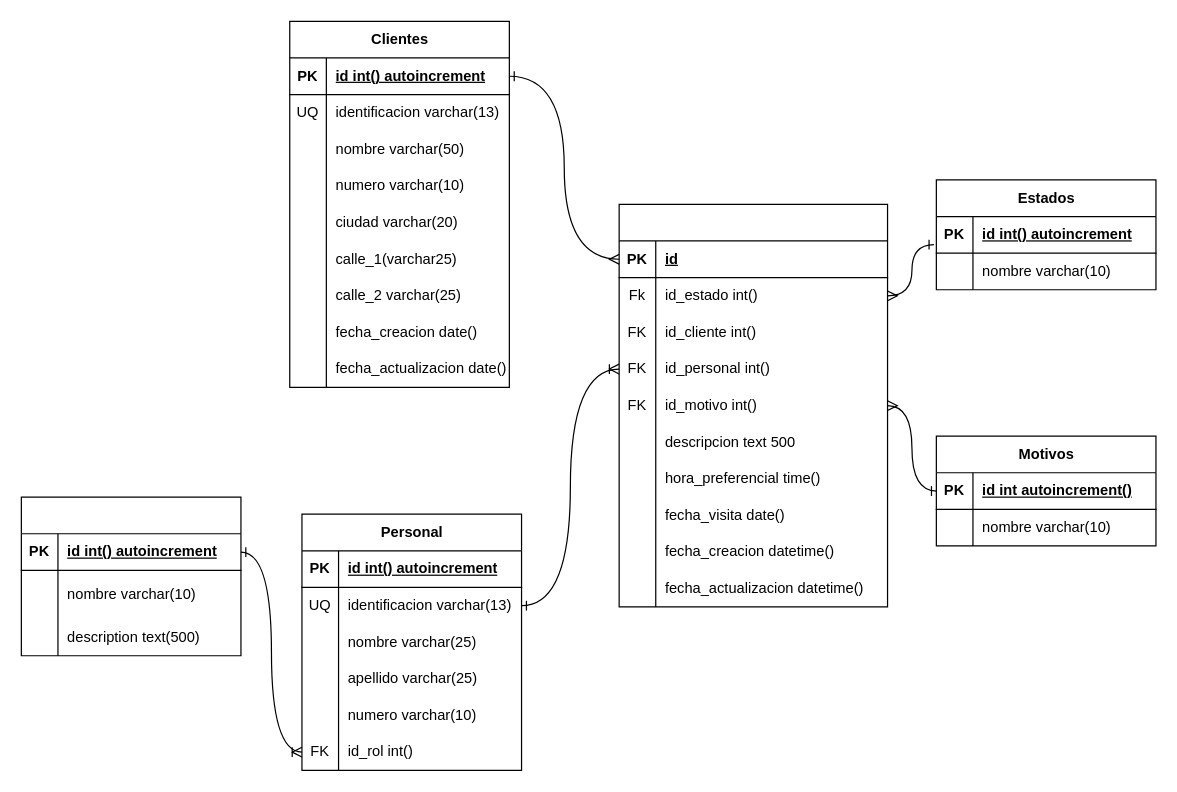
Some shapes in this 1177 by 792 pixel diagram are drawn without their labels. Each missing label, with the box of its shape:
Ordenes: (618, 203, 888, 607)
Roles: (20, 496, 241, 656)
